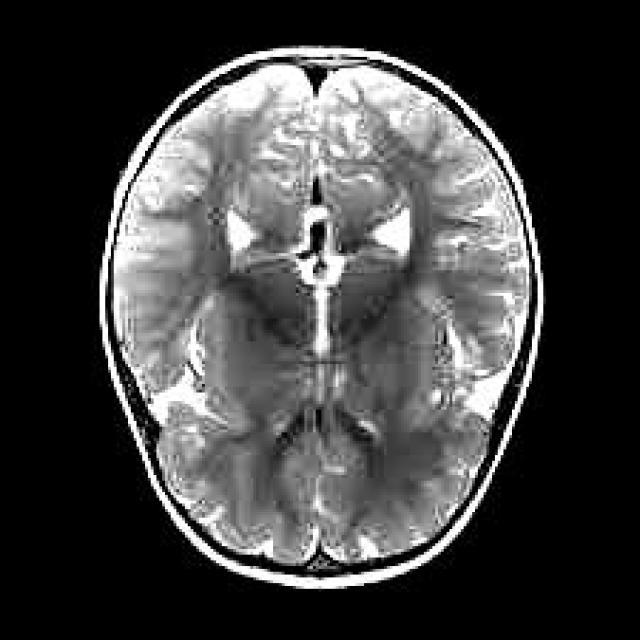notumor: (97, 48, 546, 594)
